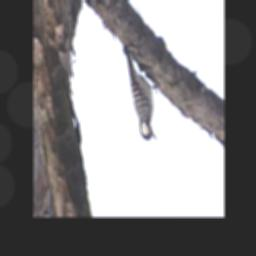Woodpecker: (119, 40, 160, 147)
